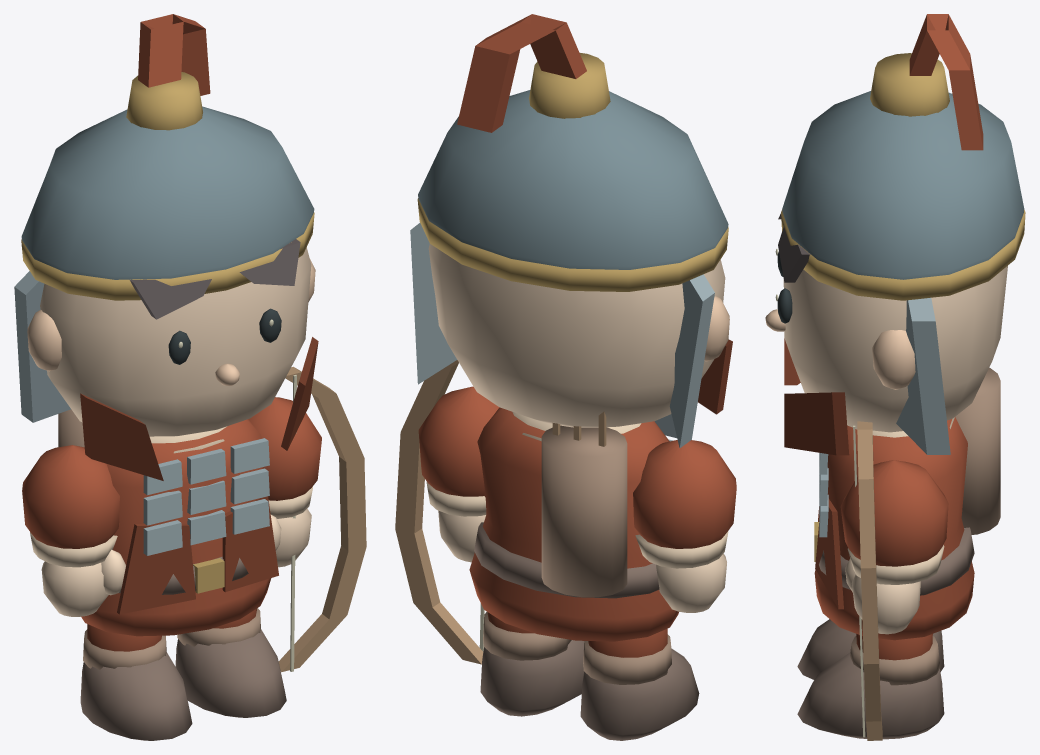
File: archer.glb
3 renders of one model, left to right at view 1: azimuth 30°, elevation 25°; view 2: azimuth 150°, elevation 25°; view 3: azimuth 270°, elevation 25°, orthographic. The views are drawn at different scales.
Visible parts, largest first — view 1: Regional helmet, Soft cheek head, Short folded tunic, Puff sleeve, Curved bow, Round leather boot, Round leather boot.001, Red silk tassel, Puff sleeve.001, Coat fold, Helmet brow band, Hood cheek cowl (+30 smaller); view 2: Regional helmet, Soft cheek head, Short folded tunic, Quiver leather, Puff sleeve, Curved bow, Red silk tassel, Helmet brow band, Round leather boot, Puff sleeve.001, Round leather boot.001, Han side guard (+12 smaller); view 3: Regional helmet, Soft cheek head, Short folded tunic, Puff sleeve.001, Round leather boot.001, Quiver leather, Han side guard.001, Curved bow, Helmet brow band, Red silk tassel, Hood cheek cowl R, Top knot socket (+12 smaller).
Part boxes in pixels (box(x1,y1,x2,y2)): Regional helmet: box(21, 106, 314, 279); Soft cheek head: box(40, 247, 311, 436); Short folded tunic: box(81, 419, 271, 636); Puff sleeve: box(22, 445, 119, 548); Curved bow: box(278, 366, 366, 672); Round leather boot: box(80, 652, 192, 740); Round leather boot.001: box(175, 629, 286, 717); Red silk tassel: box(138, 14, 210, 95); Puff sleeve.001: box(248, 397, 321, 500); Coat fold: box(117, 523, 195, 614); Helmet brow band: box(21, 212, 314, 300); Hood cheek cowl: box(80, 393, 163, 480); Regional helmet: box(418, 90, 728, 269); Soft cheek head: box(428, 244, 725, 427); Short folded tunic: box(469, 407, 678, 641); Quiver leather: box(541, 425, 627, 597); Puff sleeve: box(633, 440, 736, 548); Curved bow: box(395, 360, 483, 664); Red silk tassel: box(457, 14, 586, 132); Helmet brow band: box(417, 198, 728, 291); Round leather boot: box(580, 648, 699, 740); Puff sleeve.001: box(418, 386, 499, 496); Round leather boot.001: box(480, 640, 584, 716); Han side guard: box(669, 274, 714, 447); Regional helmet: box(782, 91, 1024, 279); Soft cheek head: box(783, 266, 1007, 432); Short folded tunic: box(814, 417, 974, 640); Puff sleeve.001: box(840, 460, 948, 566); Round leather boot.001: box(797, 652, 944, 739); Quiver leather: box(955, 367, 1000, 534); Han side guard.001: box(896, 297, 950, 454); Curved bow: box(857, 421, 882, 740); Helmet brow band: box(781, 209, 1025, 300); Red silk tassel: box(909, 14, 983, 150); Hood cheek cowl R: box(784, 392, 849, 455); Top knot socket: box(870, 53, 949, 116).
Bounding box in the file's own units: 0.89 × 1.75 × 0.602.
